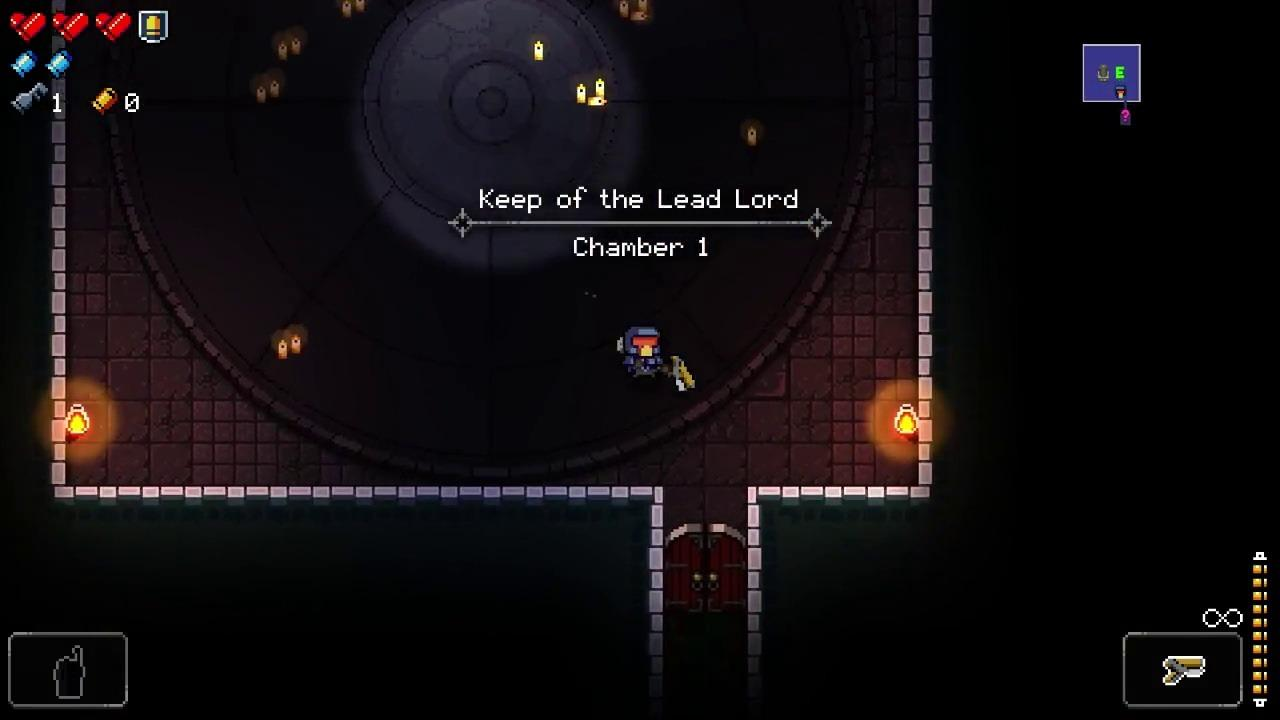player: (622, 324, 663, 382)
unlocked_door: (664, 522, 748, 614)
